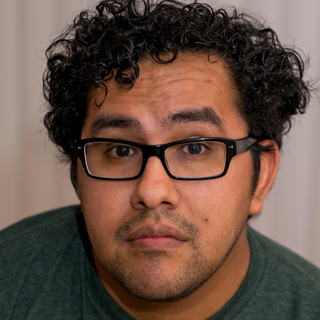eye: (171, 133, 211, 163), (98, 139, 140, 163)
